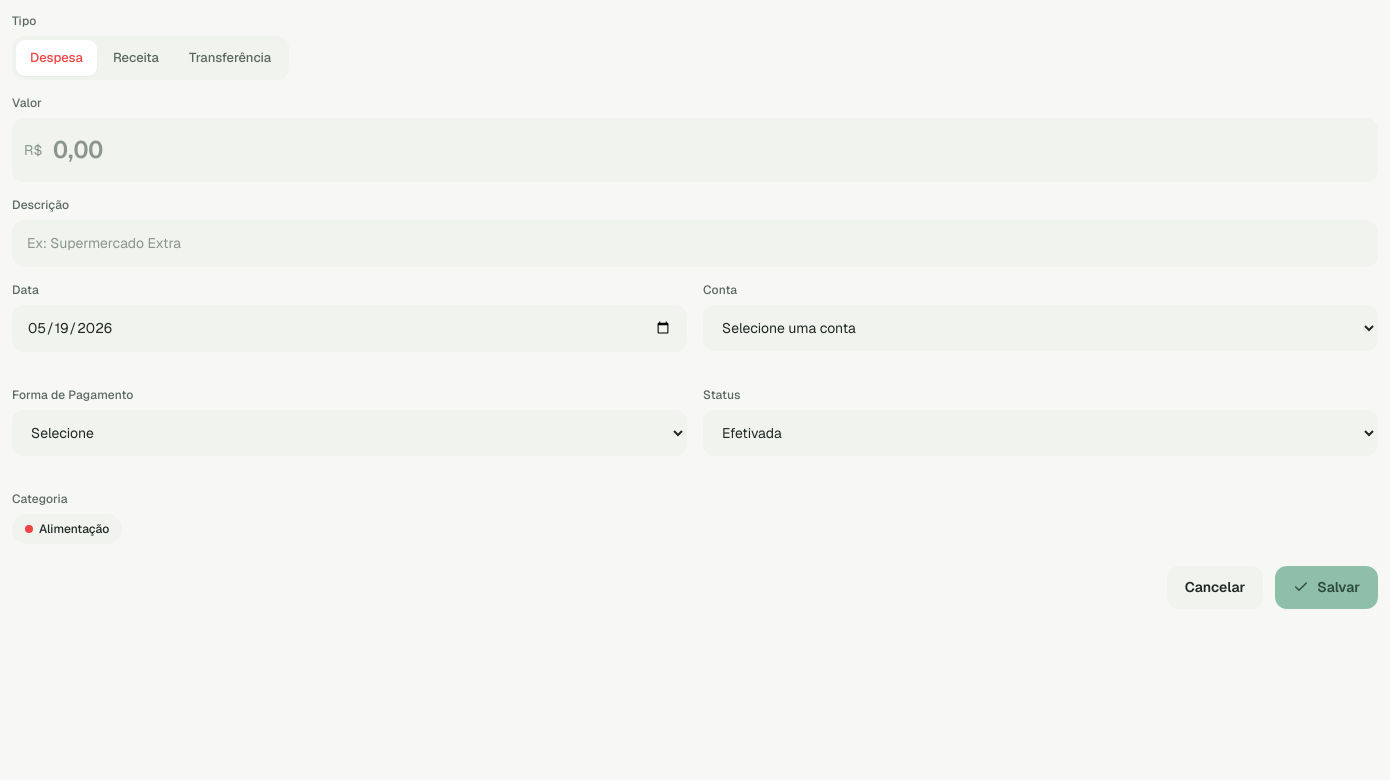
Scenario: TransactionForm › should show validation error when description is empty
Type "10000" into the field labelled "Valor".
click(695, 150); type("10000")  # box x1=12 y1=118 x2=1378 y2=182
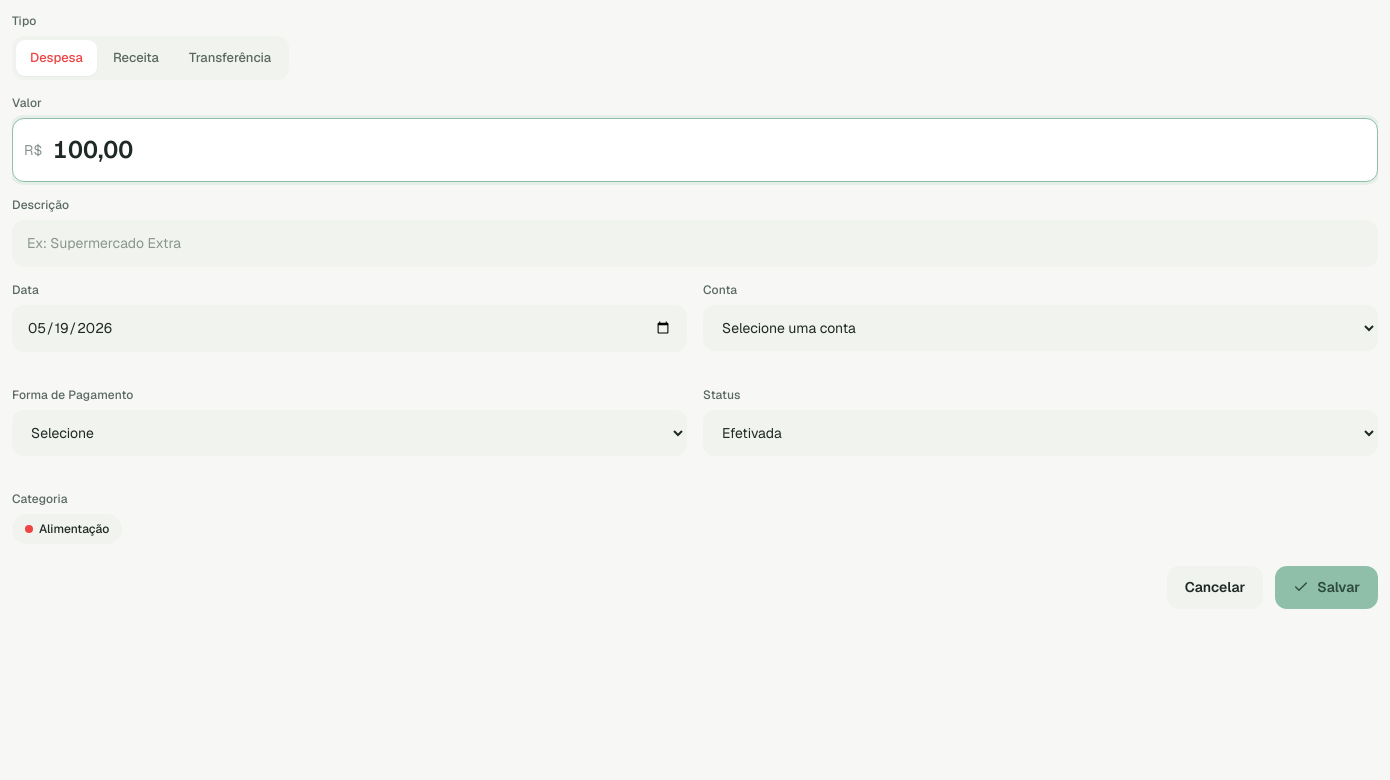
Click the button "Salvar".
click(1327, 587)  # box x1=1275 y1=566 x2=1378 y2=608
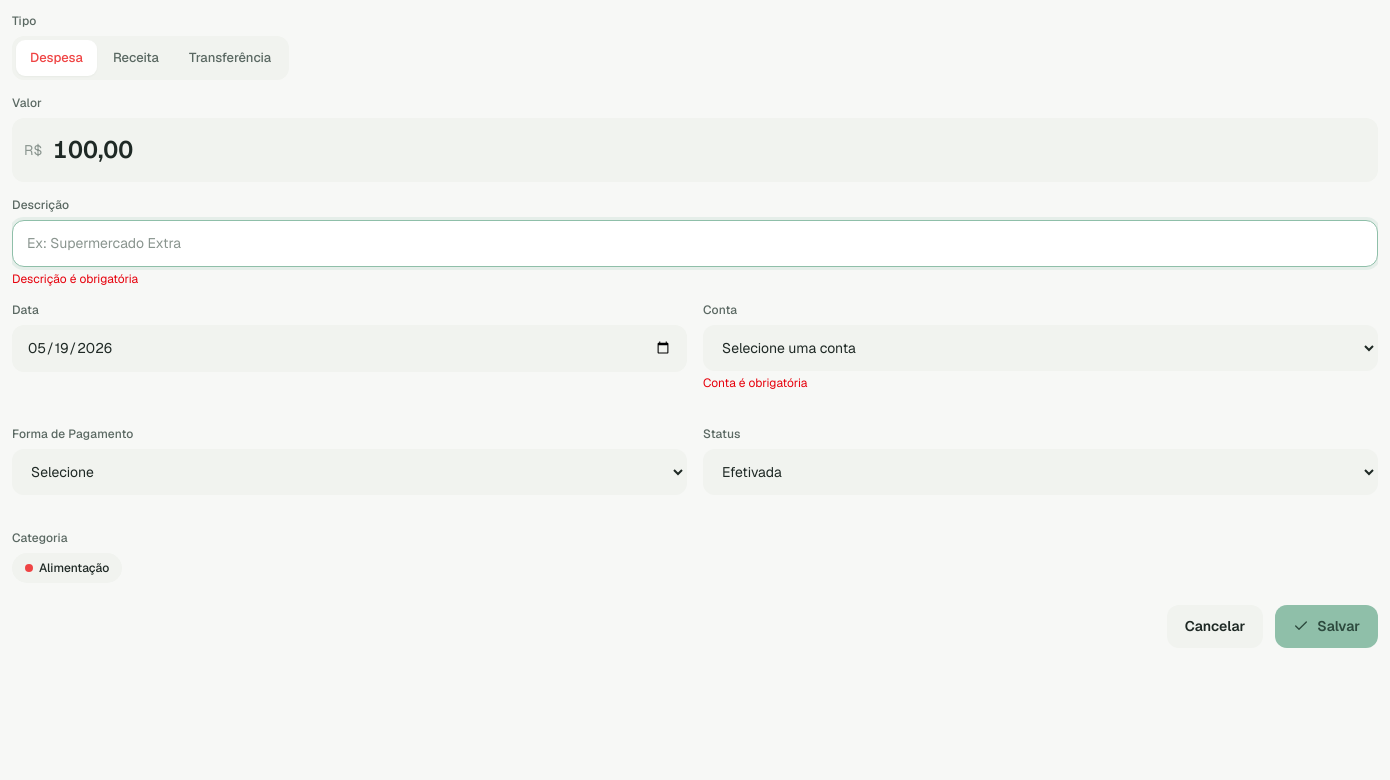
Now the text "Descrição é obrigatória" is shown, box x1=12 y1=270 x2=138 y2=286
